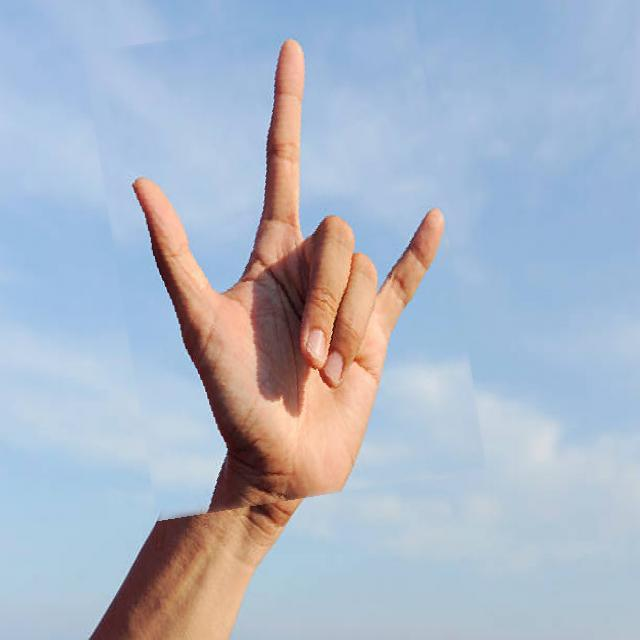I Love You: (100, 12, 470, 510)
